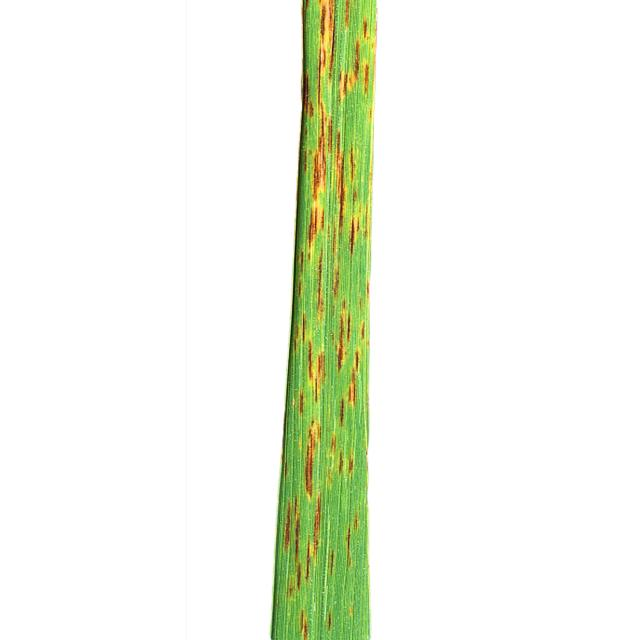Narrow brown: (254, 1, 394, 640)
